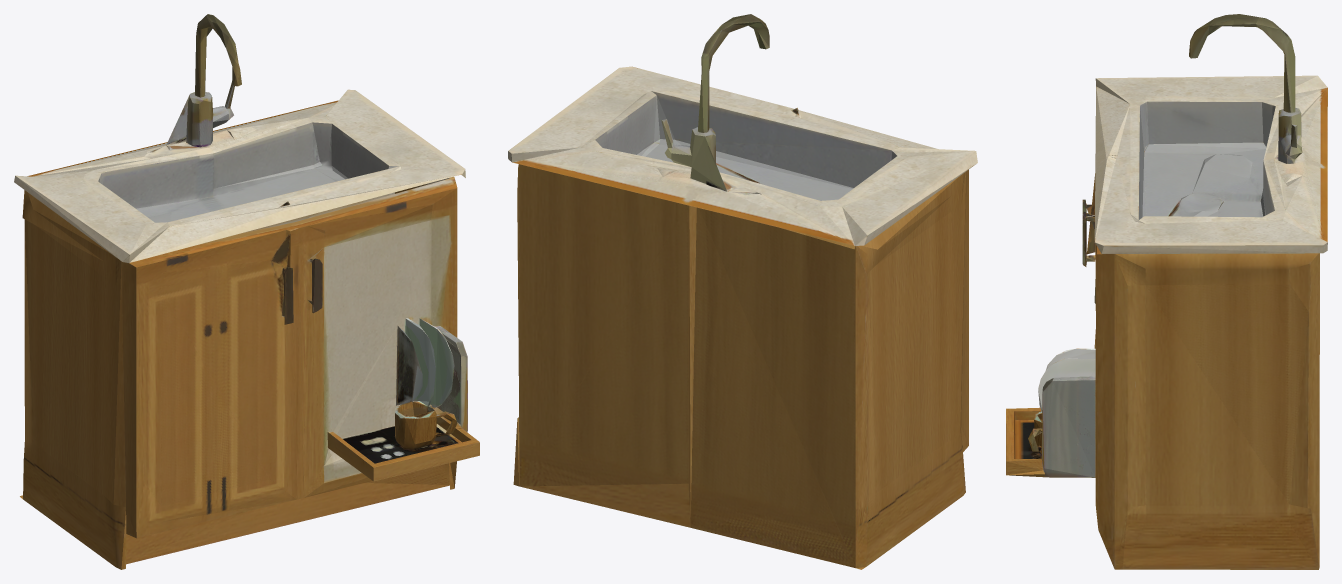
The model's file is home-sink.glb.
3 renders of one model, left to right at view 1: azimuth 30°, elevation 25°; view 2: azimuth 150°, elevation 25°; view 3: azimuth 270°, elevation 25°, orthographic. The views are drawn at different scales.
Bounding box in the file's own units: 1.48 × 1.9 × 1.18.
1 material, 1 textured.
